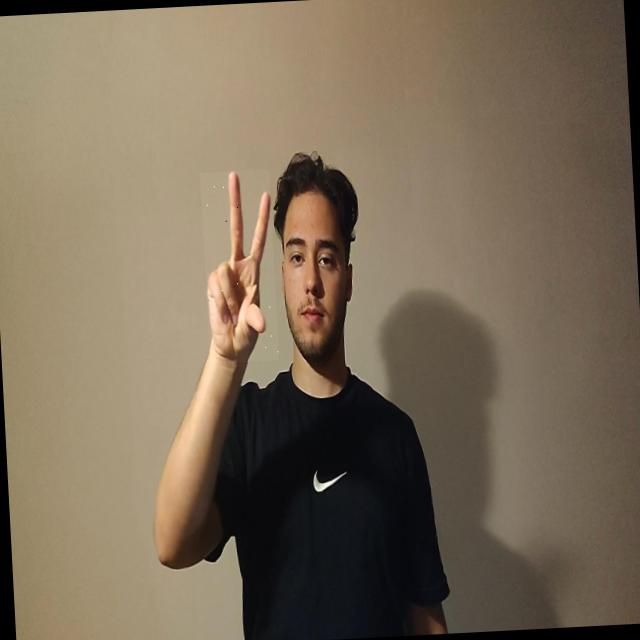no: (200, 170, 279, 365)
